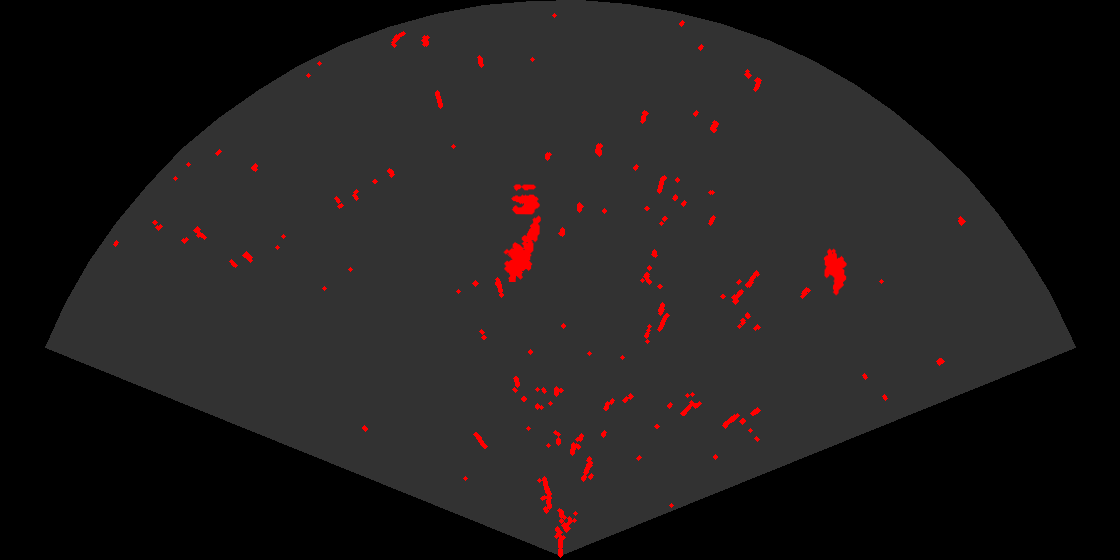AUV: (822, 247, 848, 297)
ball: (510, 183, 541, 216)
frogman: (502, 214, 542, 282)
